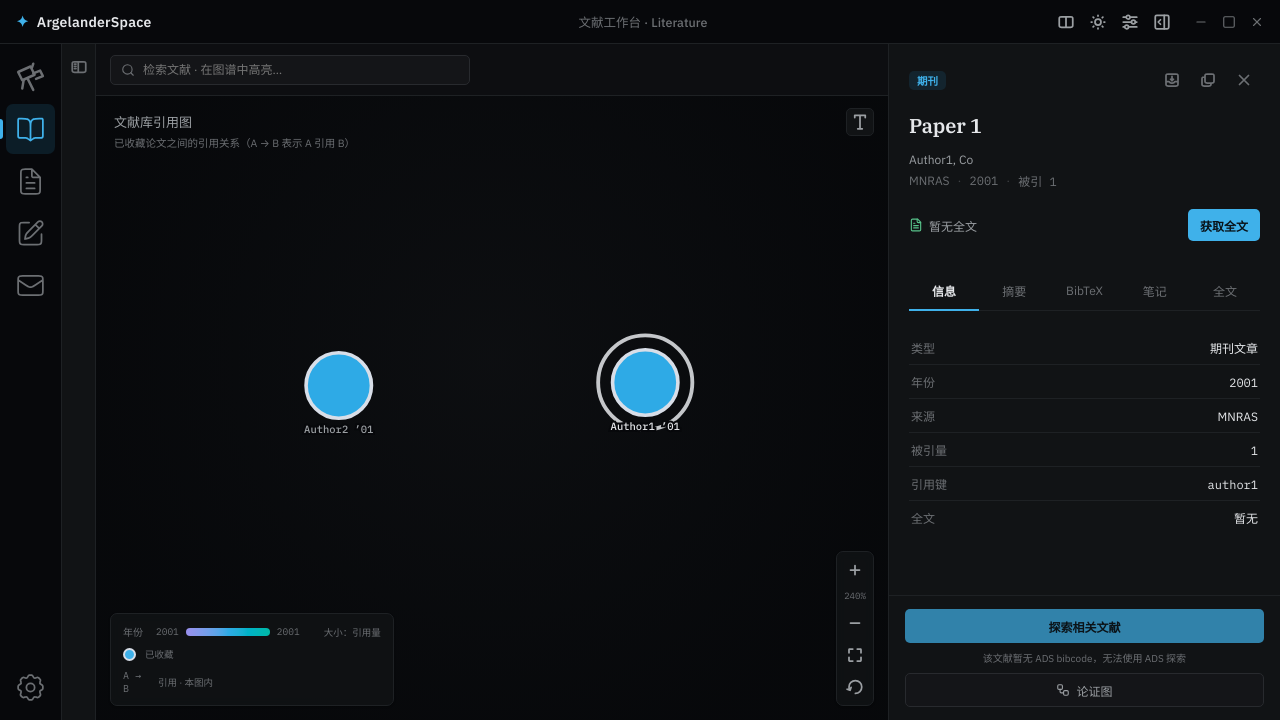
Test: the page the view publishes › a loading read publishes that phase with no graph
The width and height of the screenshot is (1280, 720).
Click the button "论证图" at (1084, 690), box x1=905 y1=673 x2=1264 y2=707
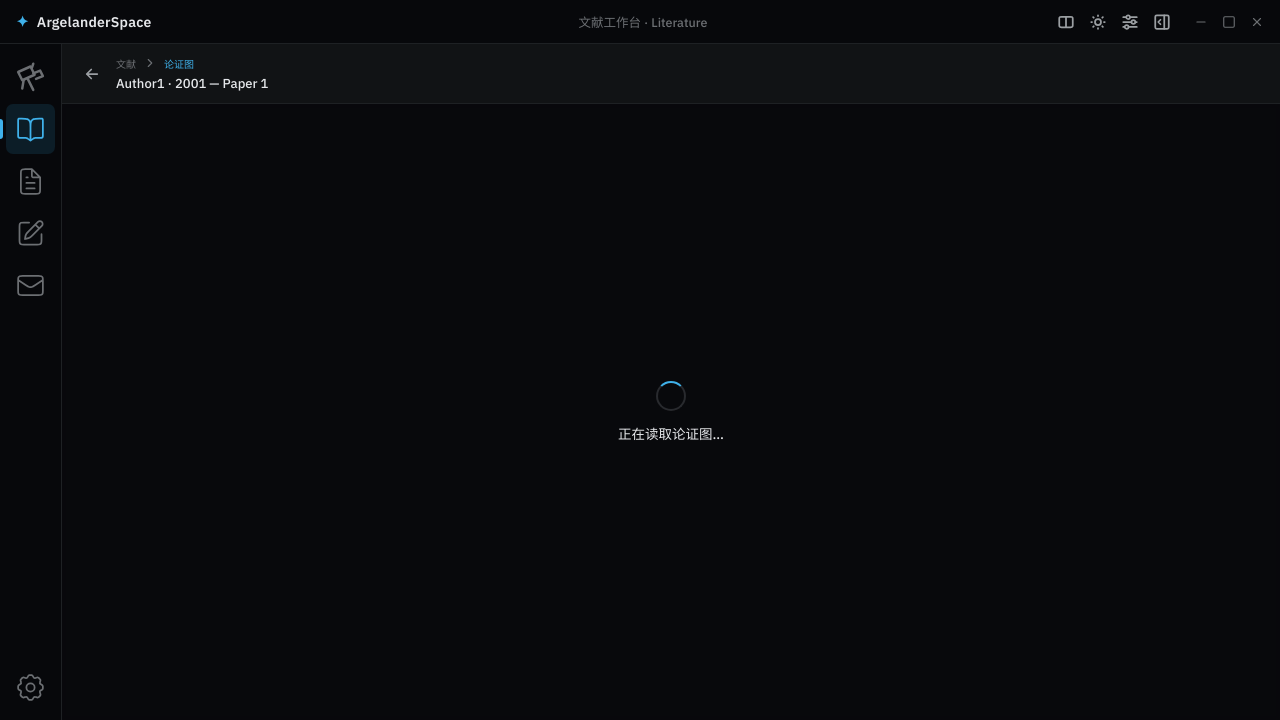
Expected: the element showing "文献 论证图 Author1 · 2001 — Paper 1 正在读取论证图…" is shown
